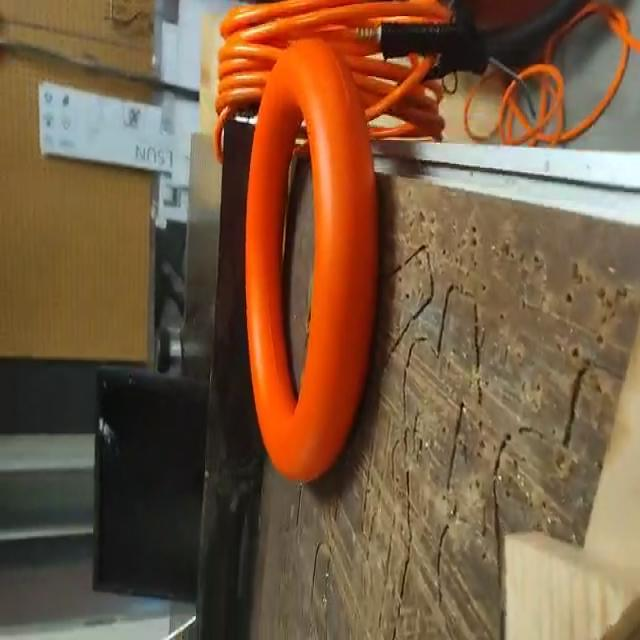note: (242, 39, 378, 483)
